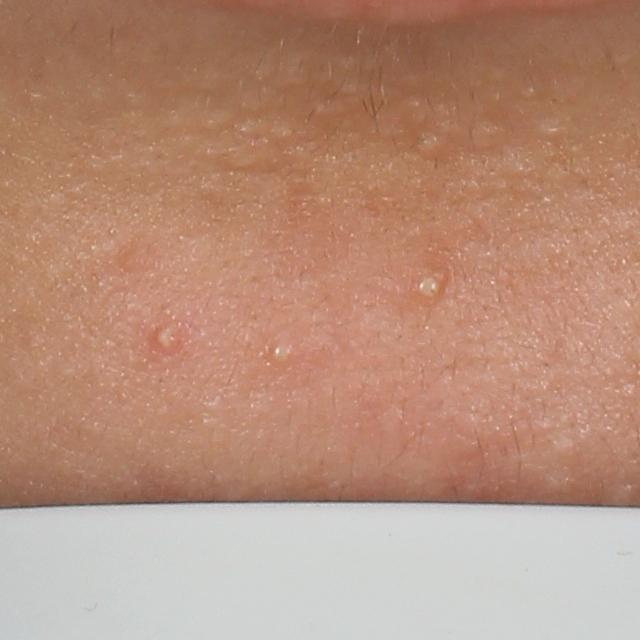hypertrophic_scar: (230, 113, 292, 148), (409, 131, 447, 158), (467, 119, 508, 143), (540, 121, 570, 140), (520, 81, 543, 104)
pustule: (401, 261, 455, 311), (266, 342, 297, 373)
